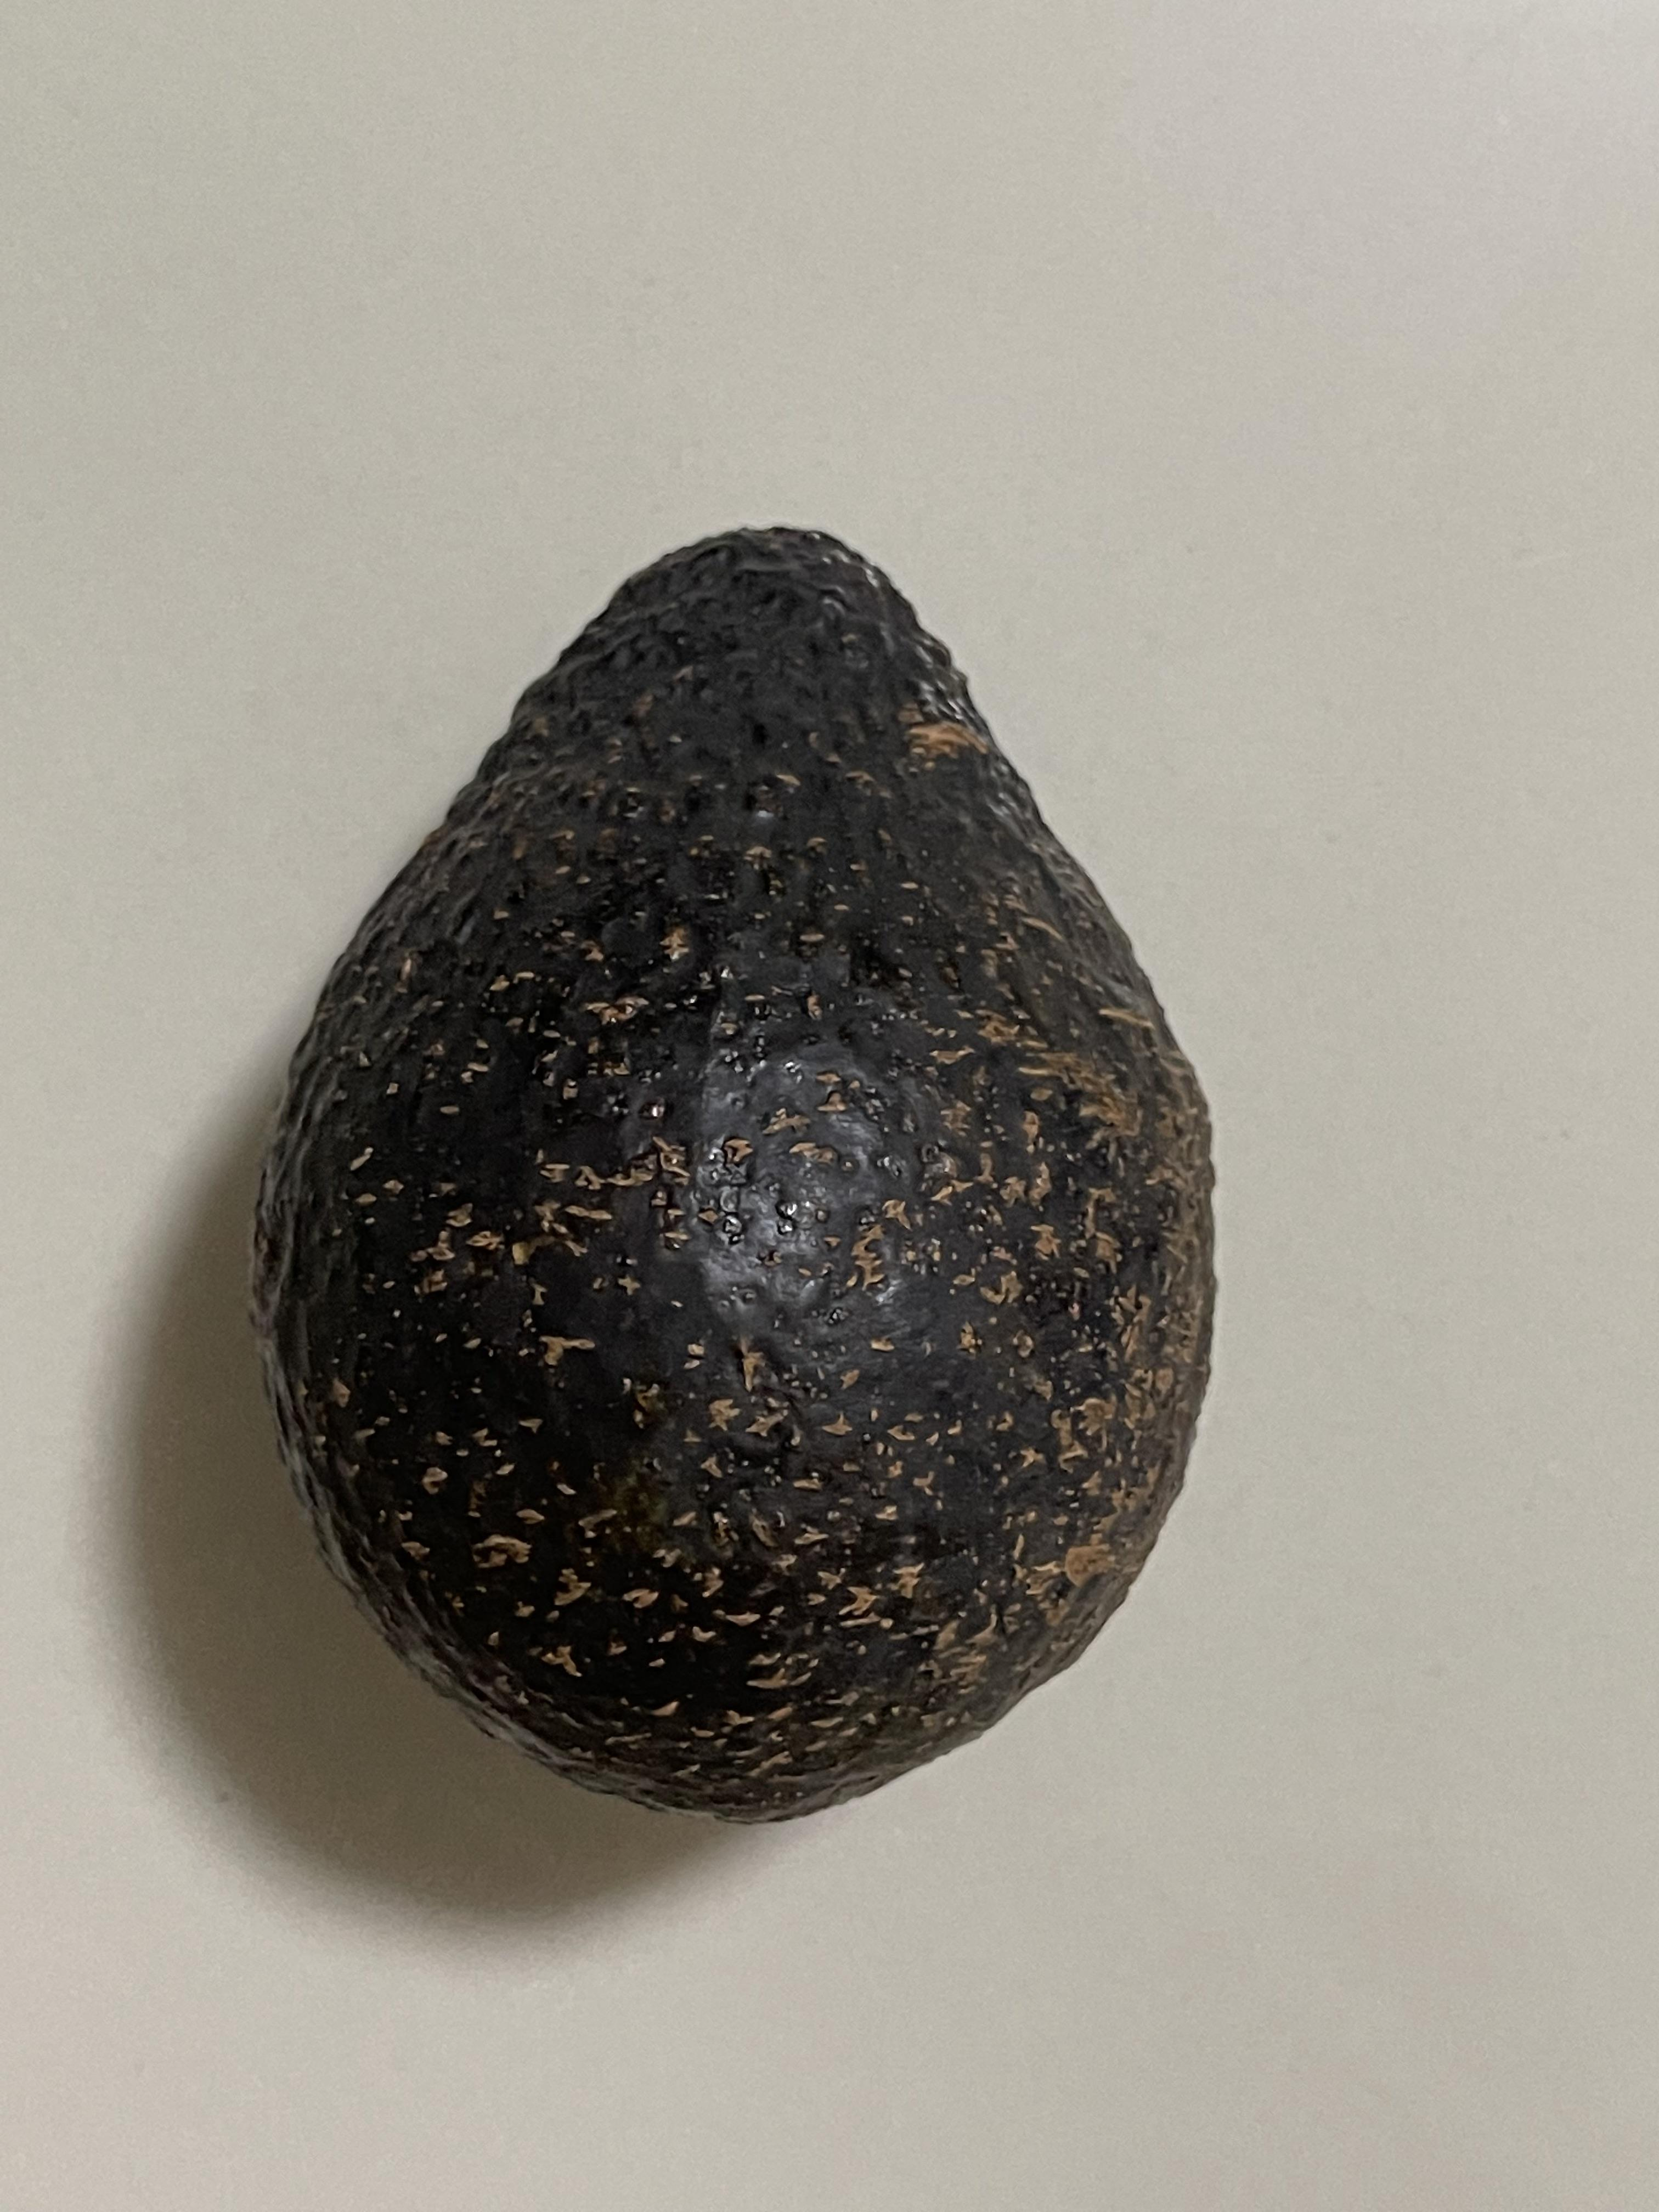Level3: (230, 493, 1249, 1850)
